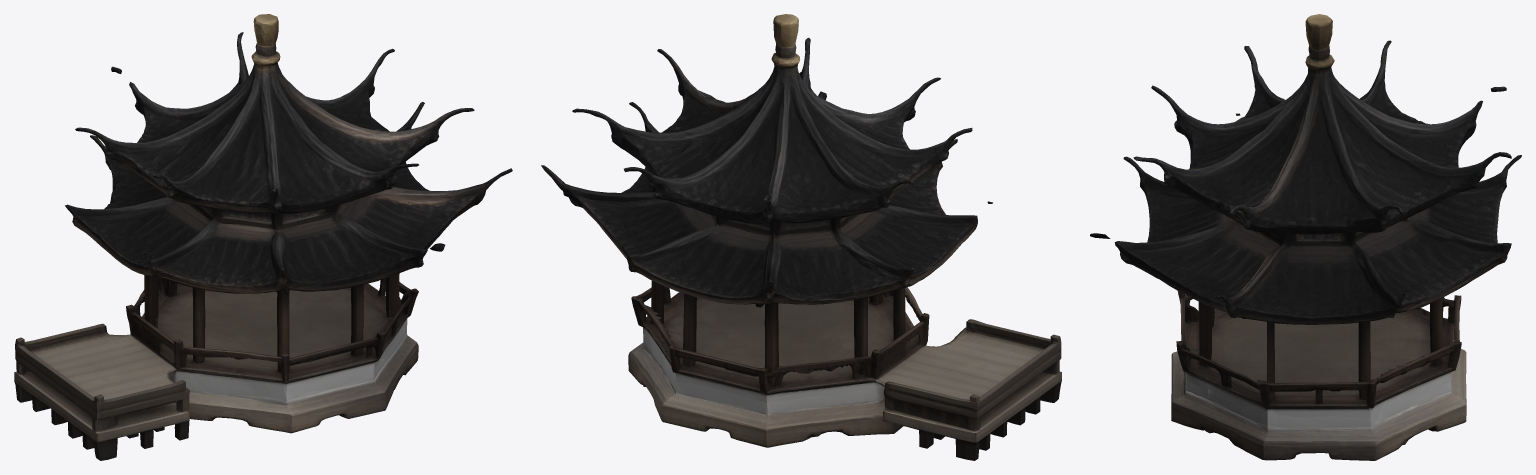
3 renders of one model, left to right at view 1: azimuth 30°, elevation 25°; view 2: azimuth 150°, elevation 25°; view 3: azimuth 270°, elevation 25°, orthographic. The views are drawn at different scales.
Visible parts, largest first — view 1: world; view 2: world; view 3: world.
Part boxes in pixels (x1,y1,x2,y2): world: (14,14,512,460); world: (541,14,1061,460); world: (1090,14,1521,460).
Bounding box in the file's own units: 0.9912 × 0.8066 × 0.8352.
Materials: 1 (1 with a texture image).
